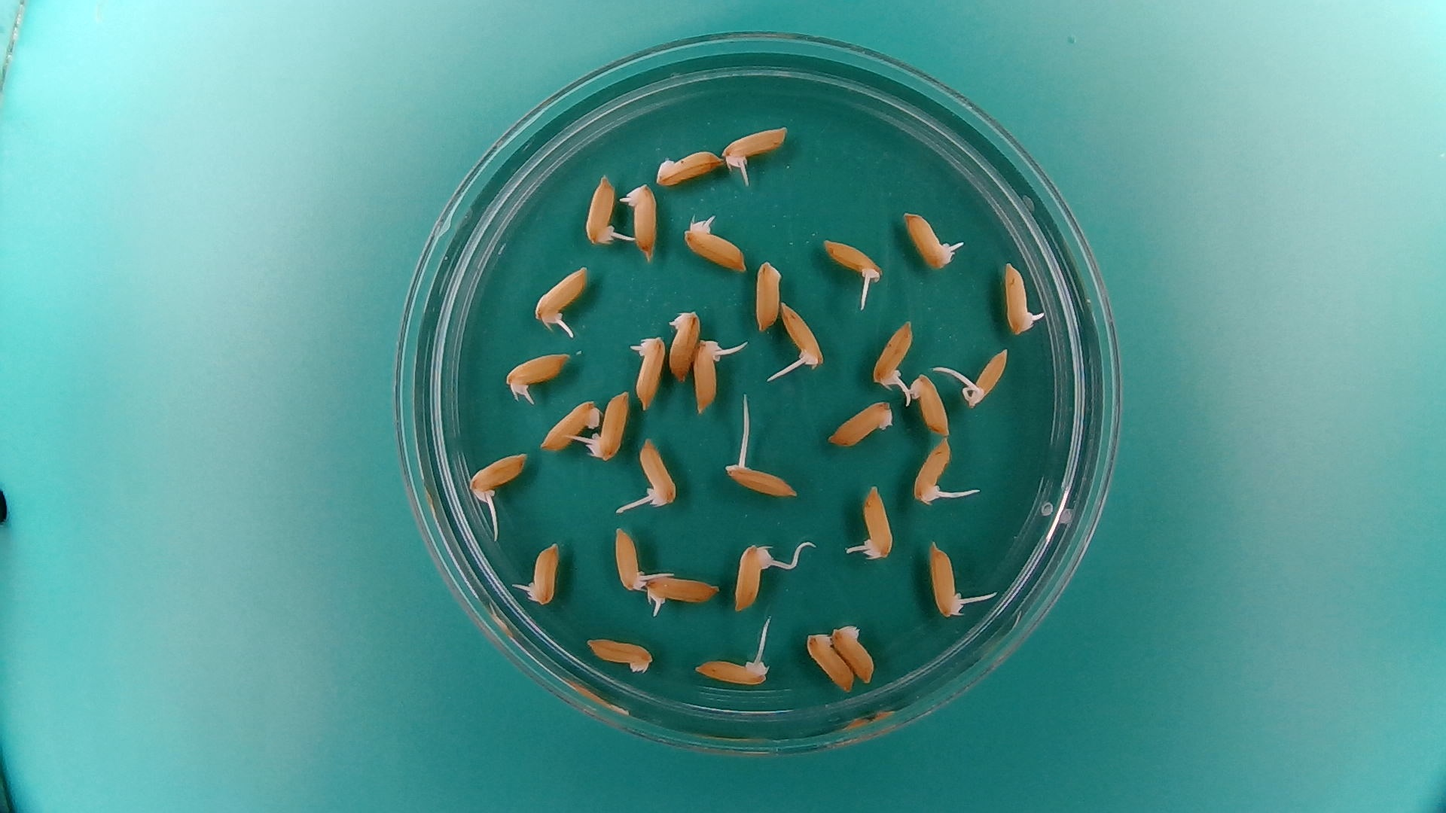no: (538, 395, 600, 452), (825, 397, 895, 447), (804, 629, 855, 694), (908, 373, 956, 441), (653, 145, 727, 188), (584, 633, 656, 676), (831, 621, 877, 684), (665, 304, 700, 384), (754, 260, 782, 336)
yes: (901, 207, 966, 270), (681, 215, 750, 273), (847, 480, 895, 562), (534, 261, 592, 327), (582, 385, 631, 463), (779, 297, 826, 373), (731, 538, 778, 614), (999, 258, 1044, 337), (642, 571, 721, 615), (819, 235, 886, 286), (508, 348, 572, 400), (626, 330, 667, 411), (870, 316, 916, 385), (725, 123, 789, 172), (961, 346, 1011, 408), (909, 436, 953, 505), (623, 183, 662, 260), (468, 449, 527, 499), (721, 461, 798, 499), (639, 433, 679, 505), (611, 522, 650, 594), (691, 334, 725, 416), (927, 548, 966, 617), (584, 175, 618, 248), (695, 652, 764, 685), (529, 541, 560, 604)
